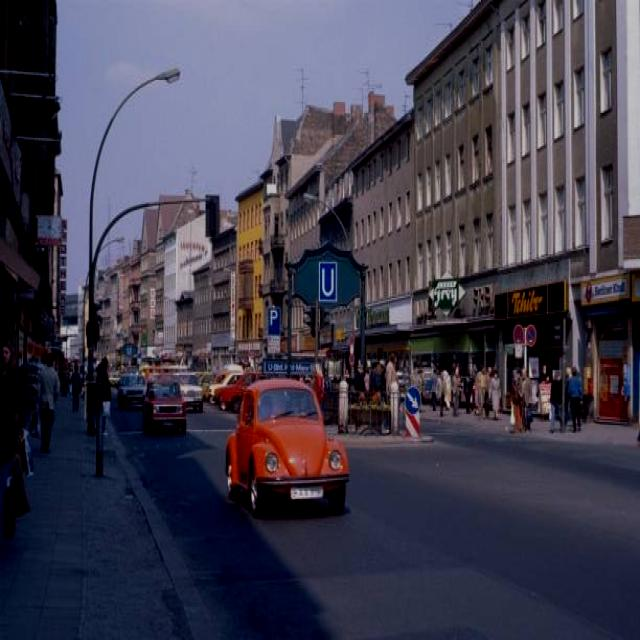car: (225, 376, 353, 517), (141, 378, 190, 427)
